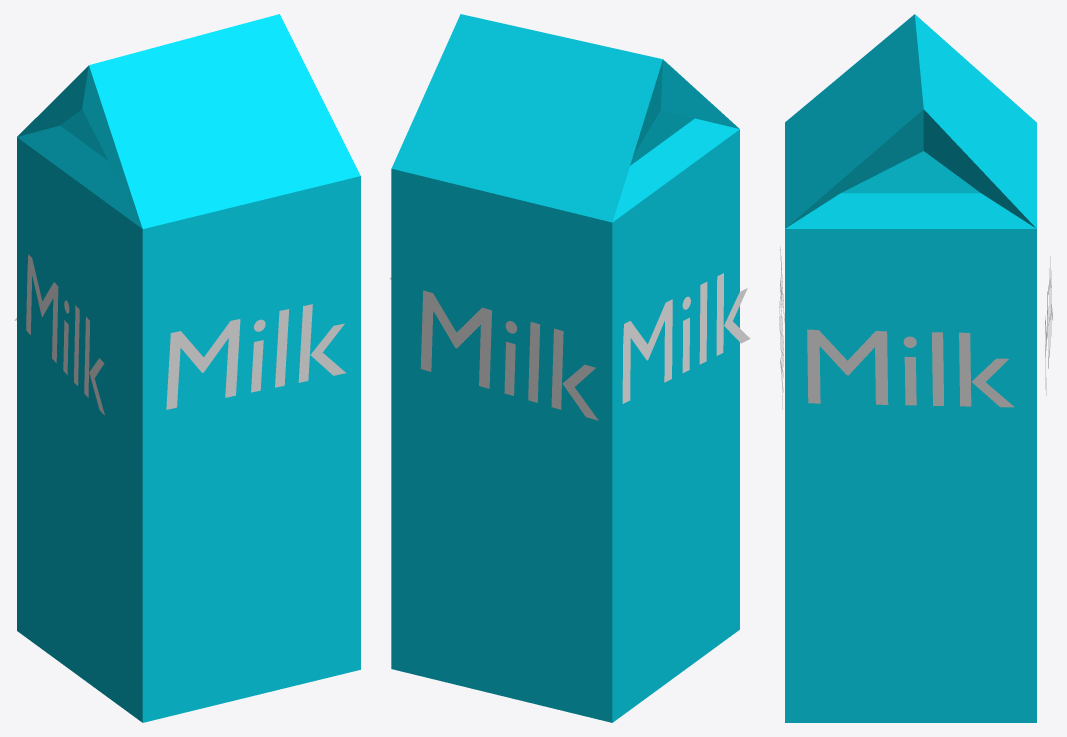
Rendered from asd.fbx.
3 renders of one model, left to right at view 1: azimuth 30°, elevation 25°; view 2: azimuth 150°, elevation 25°; view 3: azimuth 270°, elevation 25°, orthographic.
Visible parts, largest first — view 1: Cube, Text.001, Text.003; view 2: Cube, Text.002, Text.003; view 3: Cube, Text, Text.002.
Part boxes in pixels (x1,y1,x2,y2): Cube: (17, 14, 360, 722); Text.001: (166, 304, 346, 409); Text.003: (26, 254, 104, 415); Cube: (391, 14, 739, 722); Text.002: (420, 290, 598, 420); Text.003: (622, 273, 750, 403); Cube: (785, 14, 1036, 722); Text: (807, 329, 1014, 407); Text.002: (1045, 256, 1052, 395).
Bounding box in the file's own units: 237 × 533 × 217.
